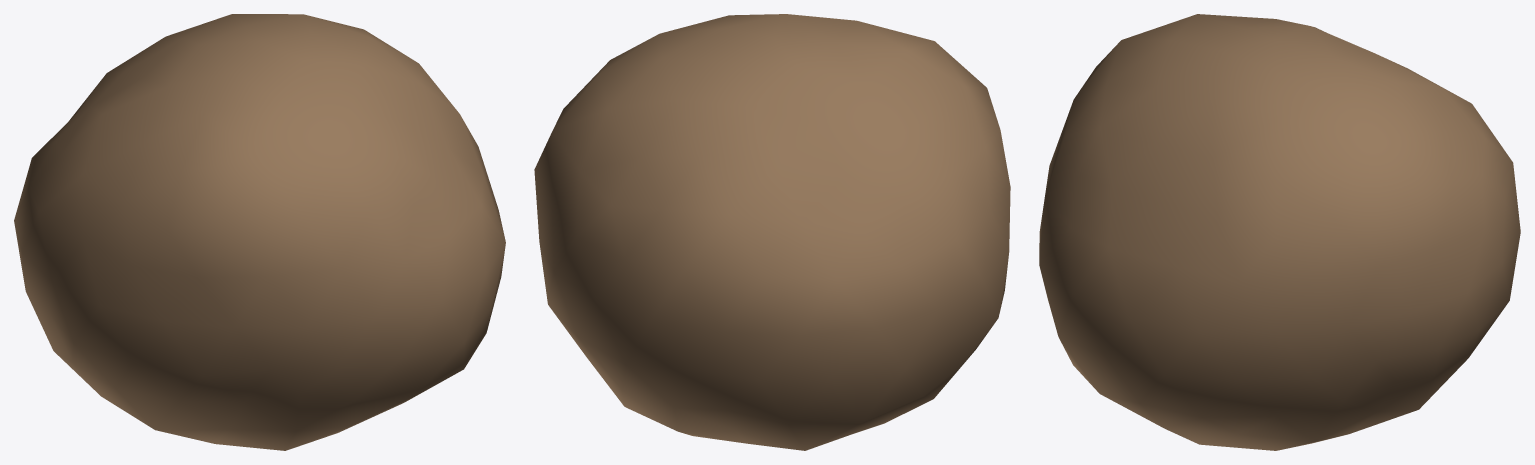
Rendered from SM_Beach_01_Coconut.fbx.
The picture shows the model from 3 angles, left to right: view 1: azimuth 30°, elevation 25°; view 2: azimuth 150°, elevation 25°; view 3: azimuth 270°, elevation 25°; orthographic projection.
Parts seen in each view (by area): view 1: SM_Beach_01_Coconut; view 2: SM_Beach_01_Coconut; view 3: SM_Beach_01_Coconut.
Part boxes in pixels (x1=…): SM_Beach_01_Coconut: x1=14, y1=14, x2=505, y2=450; SM_Beach_01_Coconut: x1=534, y1=14, x2=1010, y2=450; SM_Beach_01_Coconut: x1=1039, y1=14, x2=1520, y2=450.
Size of the model in its own units: 30 by 26.4 by 30.03.
